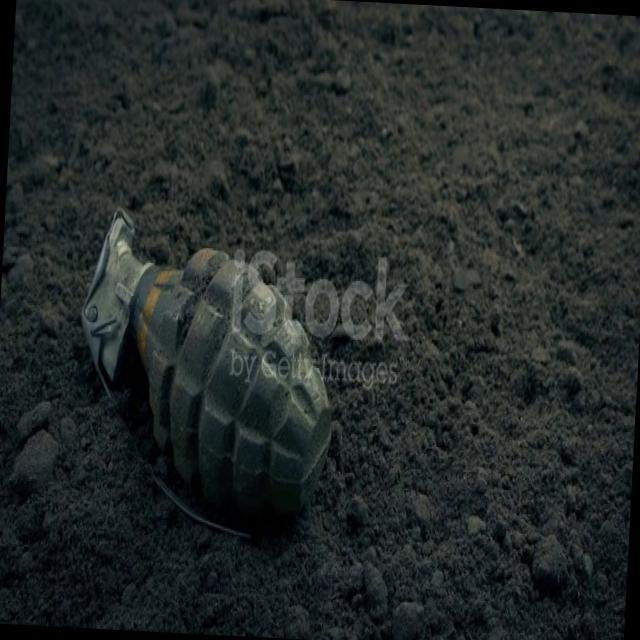grenade: (65, 200, 346, 554)
